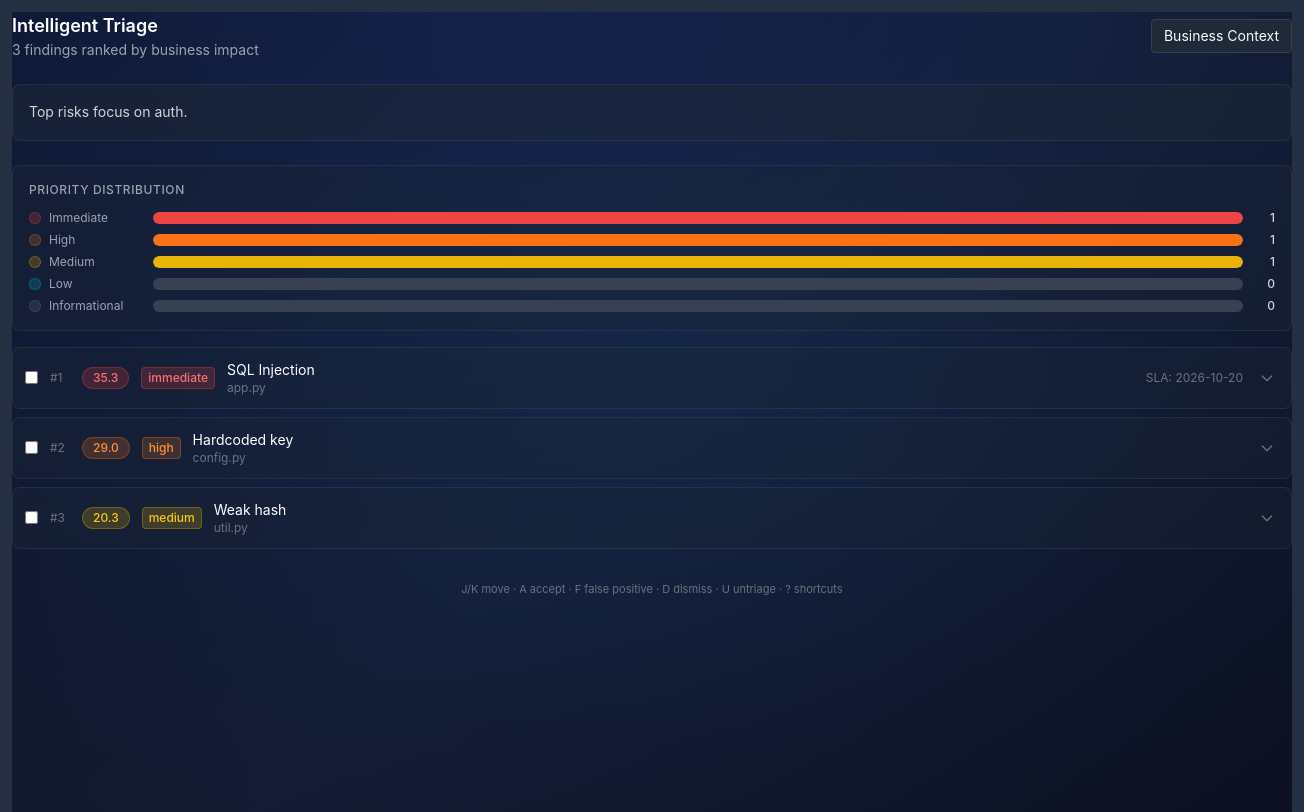
Test: TriageDashboard › bulk-labels selected rows from the toolbar
Check: the link "SQL Injection" is shown, box [227,361,315,378]
Click the checkbox named "Select SQL Injection" at (32, 378), box [25,371,38,384]
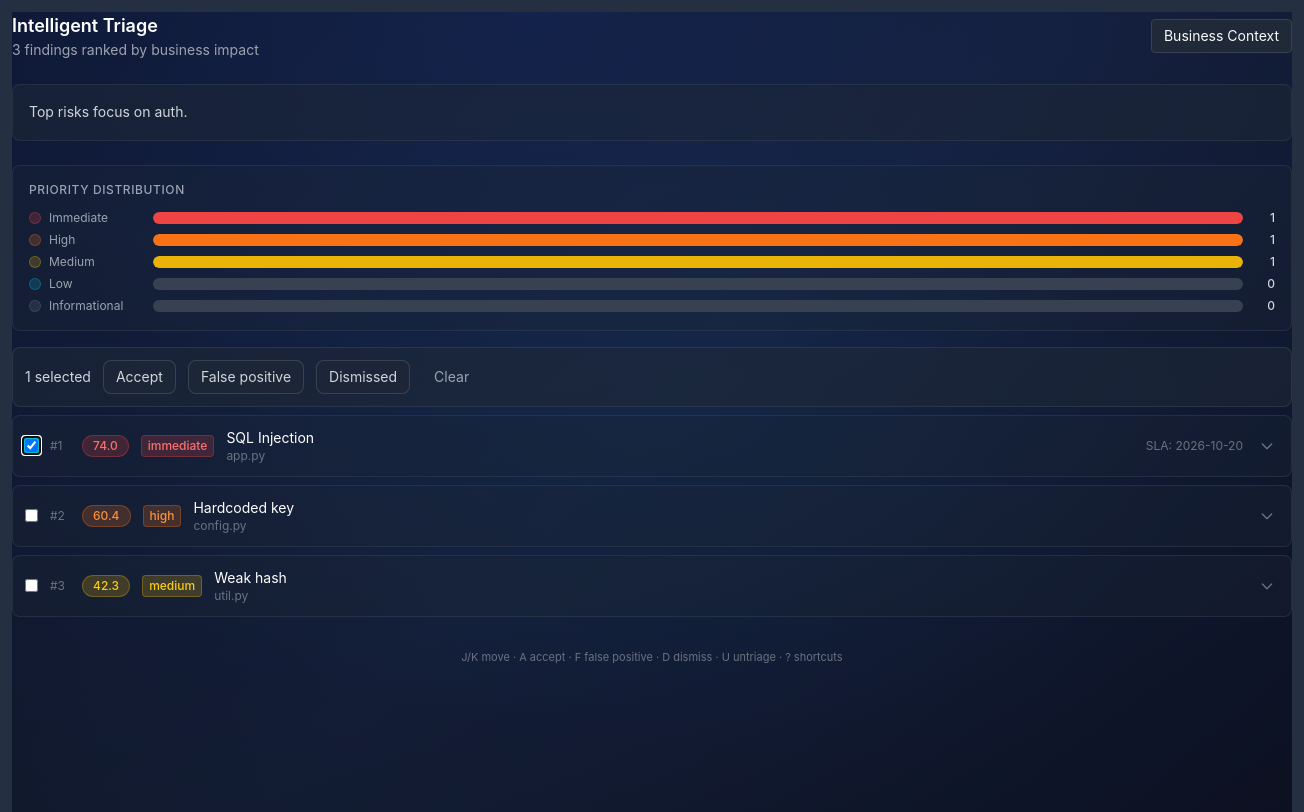
Click the checkbox named "Select Hardcoded key" at (32, 516), box [25,509,38,522]
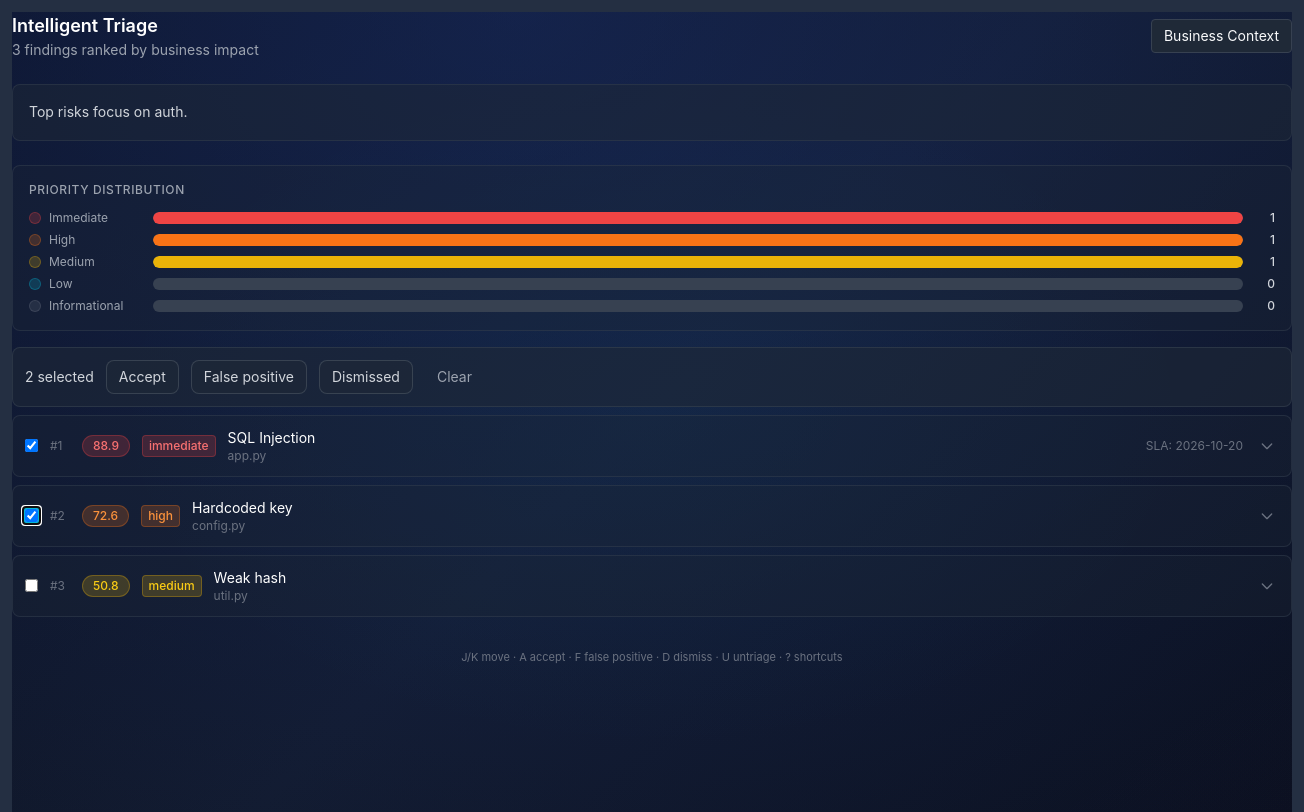
Check: the text "2 selected" is shown, box [25,367,94,387]
Click the button "False positive" at (249, 377), box [191,360,307,394]
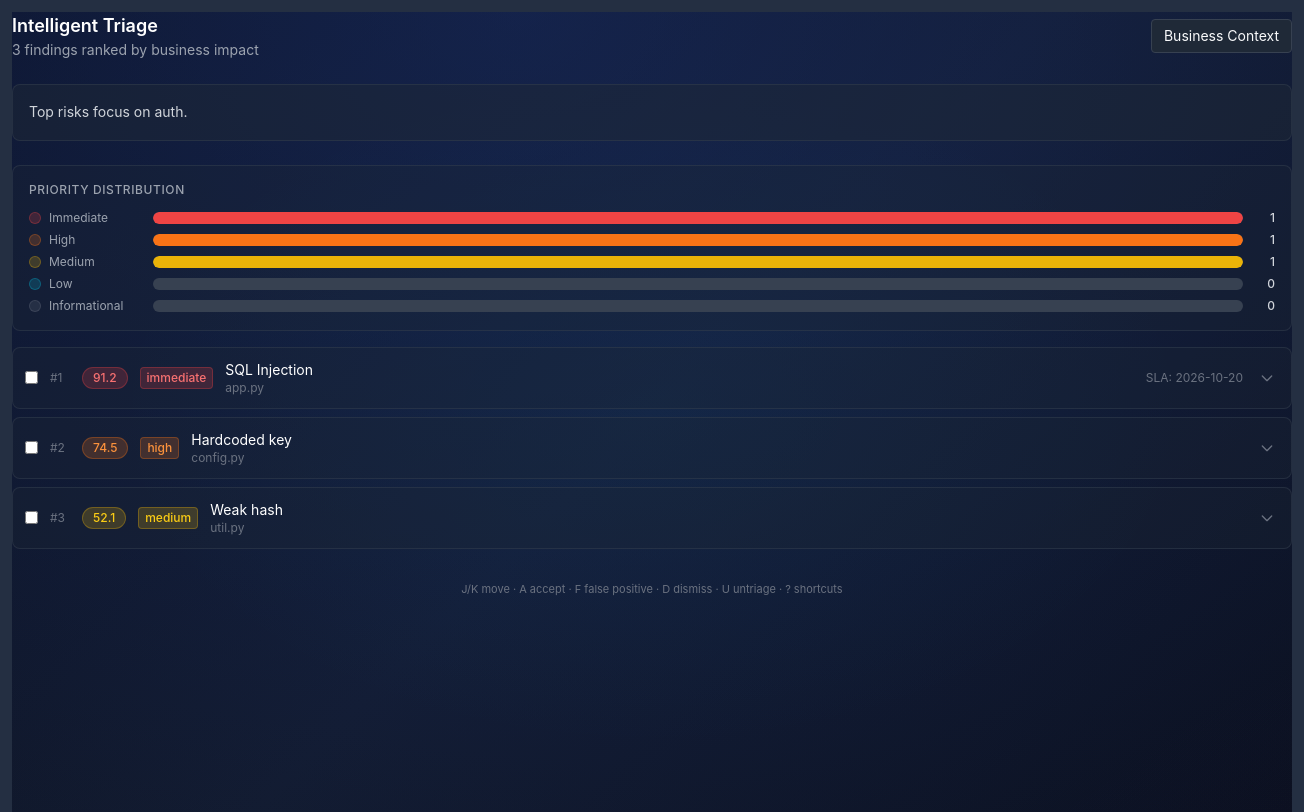
Check: the text "2 selected" is gone
